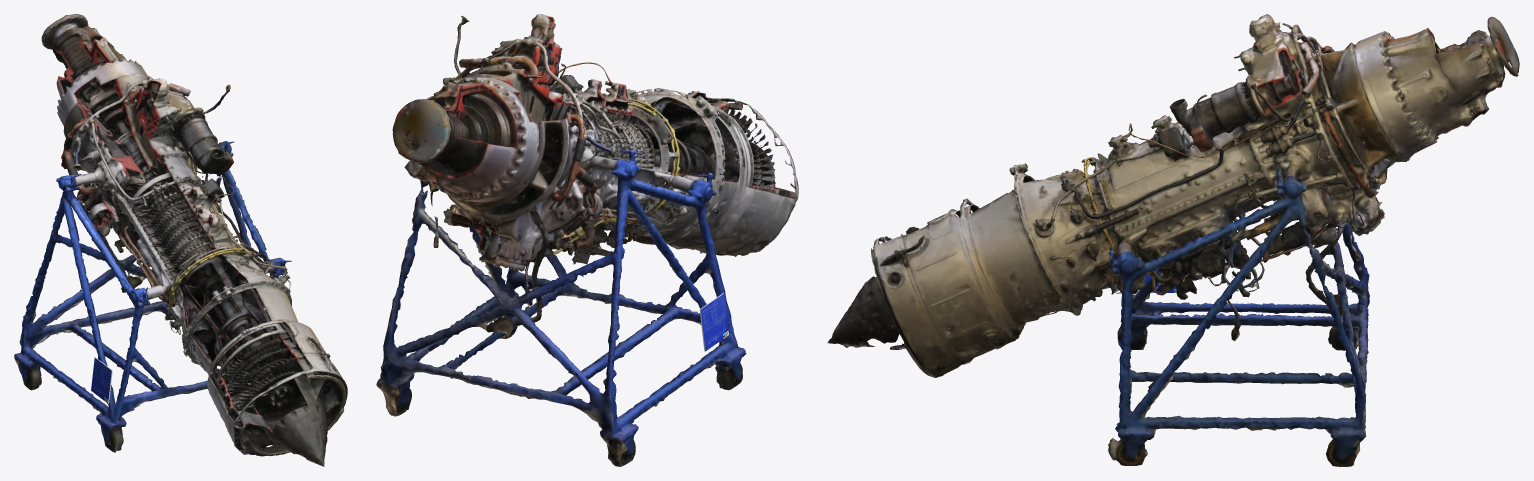
The picture shows the model from 3 angles, left to right: view 1: azimuth 30°, elevation 25°; view 2: azimuth 150°, elevation 25°; view 3: azimuth 270°, elevation 25°; orthographic projection. The views are drawn at different scales.
Visible parts, largest first — view 1: tryskovy_motor, description; view 2: tryskovy_motor, description; view 3: tryskovy_motor.
Boxes of the visible parts, box(x1,y1,x2,y2) form: tryskovy_motor: box(14, 14, 347, 466); description: box(91, 357, 112, 403); tryskovy_motor: box(376, 14, 798, 466); description: box(699, 293, 728, 351); tryskovy_motor: box(827, 14, 1519, 466).
Size of the model in its own units: 2743 by 4095 by 6494.
Materials: 2 (2 with a texture image).
